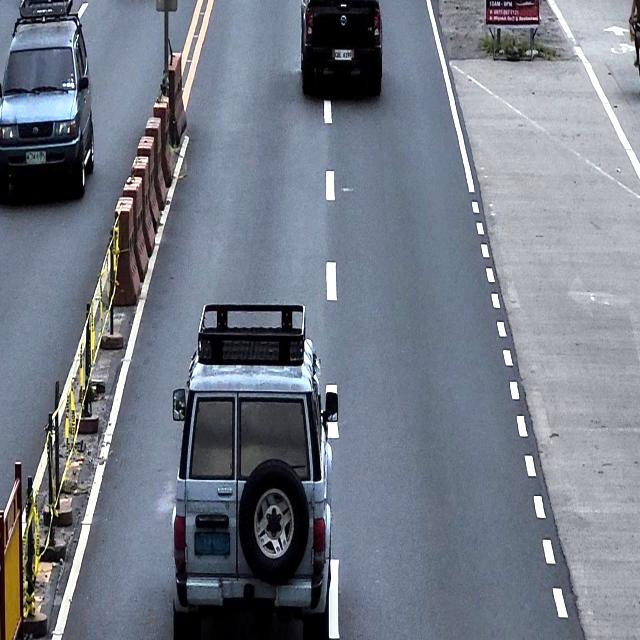Car: (171, 298, 340, 640), (0, 0, 99, 203), (300, 0, 384, 101)
License-Plate: (193, 528, 231, 558), (24, 149, 48, 167), (333, 48, 354, 62)
